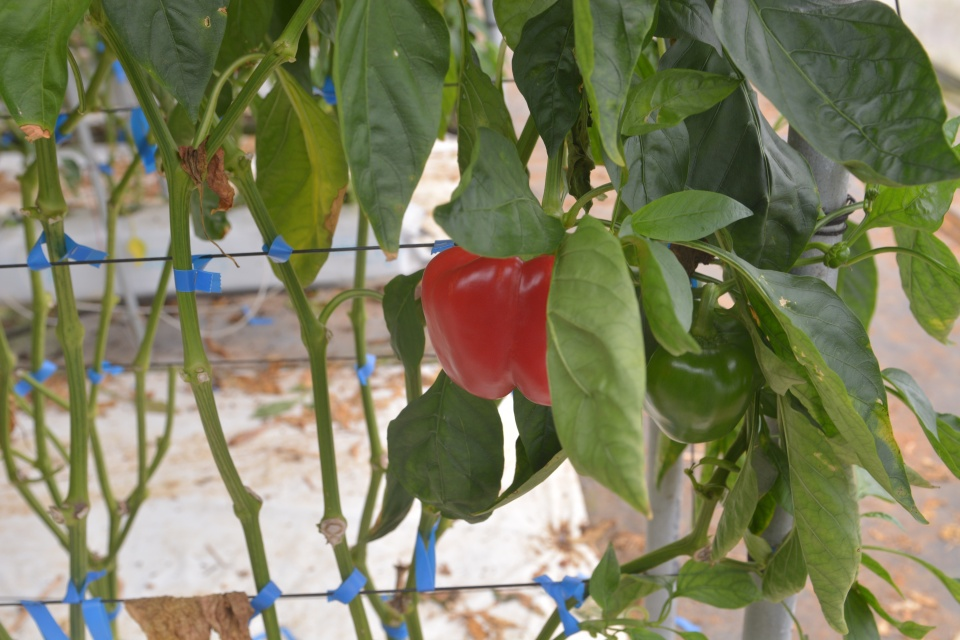fruit: (420, 243, 554, 408), (640, 313, 760, 444)
immature: (822, 239, 854, 272)
pedicle: (692, 331, 728, 349)
